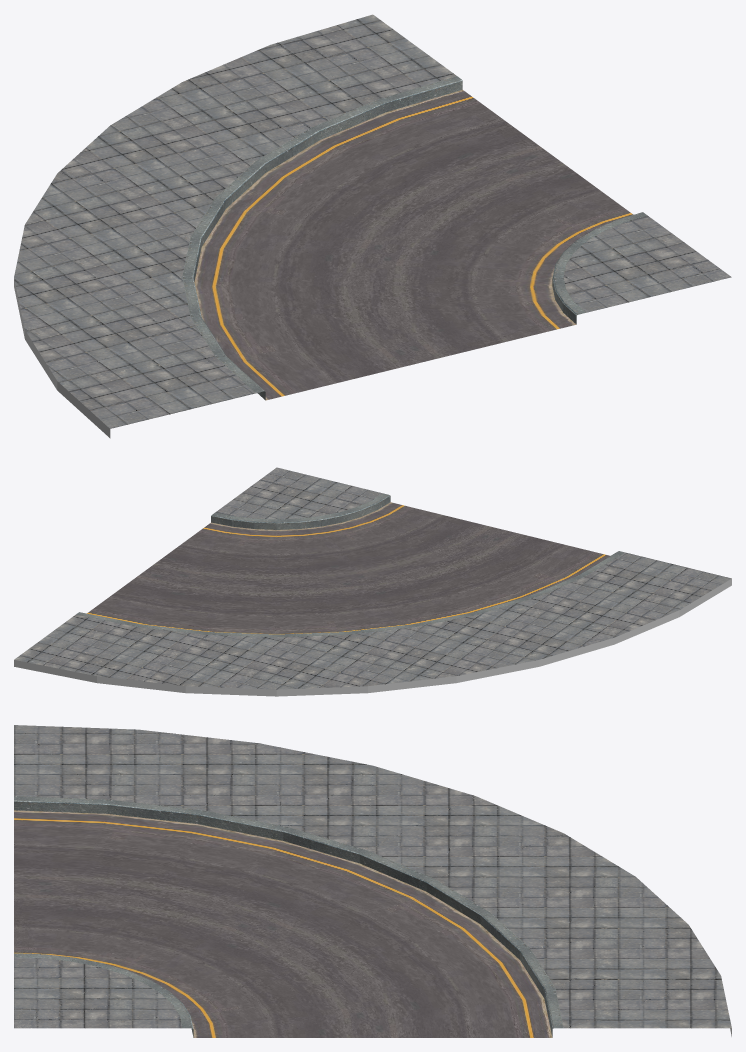
The model's file is road05.wut.obj.
3 renders of one model, top to bottom at view 1: azimuth 30°, elevation 25°; view 2: azimuth 150°, elevation 25°; view 3: azimuth 270°, elevation 25°, orthographic. The views are drawn at different scales.
Parts seen in each view (by area): view 1: defaultobject, Plane.001; view 2: defaultobject, Plane.001; view 3: defaultobject, Plane.001.
Boxes of the visible parts, x1,y1,x2,y2 form: defaultobject: (14,14,731,438); Plane.001: (194,89,633,400); defaultobject: (14,467,731,696); Plane.001: (87,502,609,634); defaultobject: (14,725,731,1037); Plane.001: (14,810,552,1037).
Size of the model in its own units: 2.29 by 0.0336 by 2.29.
Materials: 5 (4 with a texture image).
